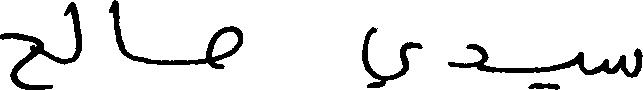X: (363, 22, 420, 89), (0, 28, 40, 89), (530, 47, 583, 89), (208, 21, 239, 73), (606, 43, 642, 82), (450, 39, 484, 75), (115, 0, 123, 59), (73, 0, 80, 66)
